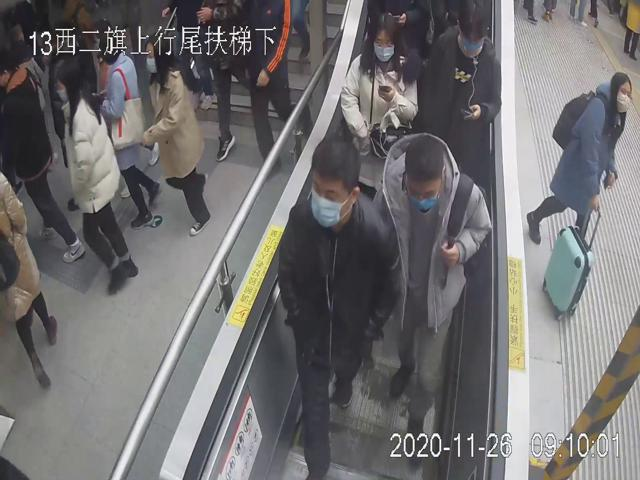person: (278, 135, 398, 480), (372, 131, 493, 467), (525, 68, 632, 313), (55, 53, 141, 298), (419, 0, 503, 198), (340, 11, 419, 200), (143, 32, 212, 237)
